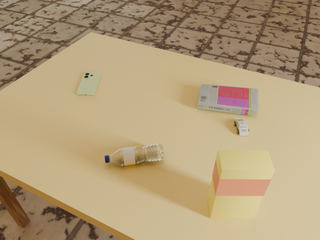book: (197, 84, 258, 116)
bottle: (105, 143, 164, 166)
box: (208, 150, 275, 218)
phone: (77, 73, 101, 95)
toy_car: (234, 119, 249, 135)
